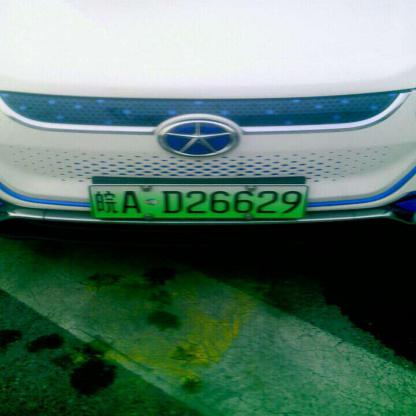lp: (90, 184, 308, 218)
